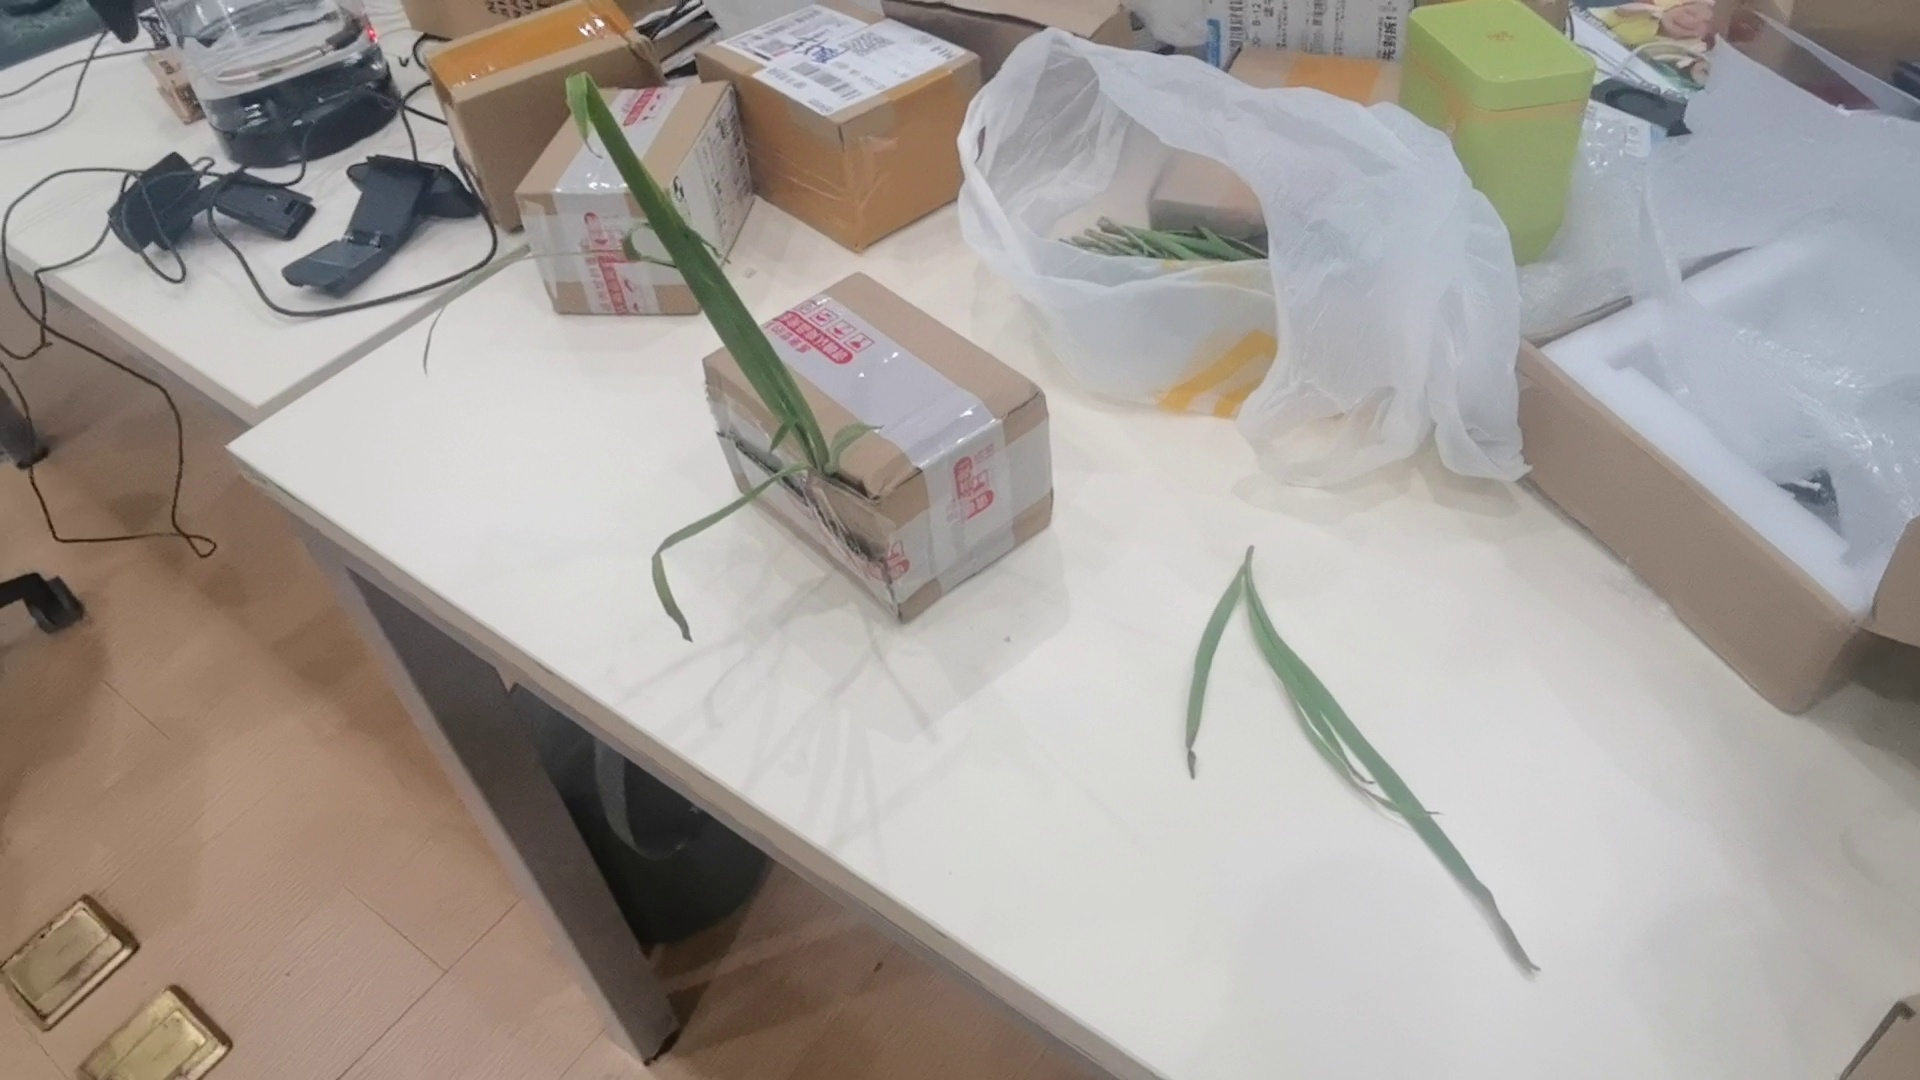chives: (472, 80, 887, 651), (1160, 527, 1551, 982)
